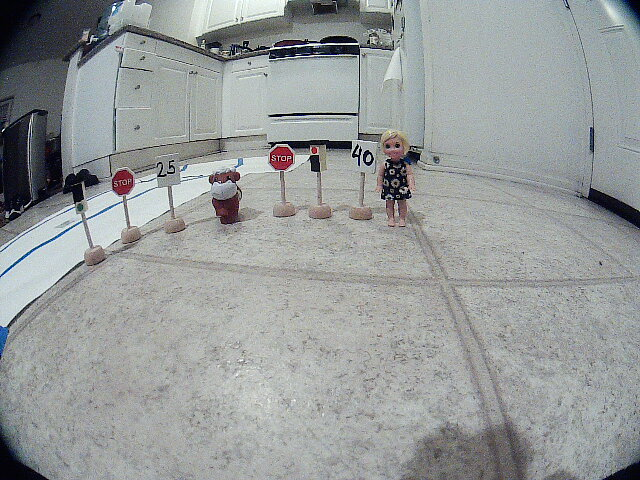Cow: (203, 167, 255, 230)
Green Traffic Light: (64, 178, 97, 221)
Person: (380, 133, 418, 227)
Red Traffic Light: (302, 137, 343, 181)
Speed Limit 25: (150, 157, 192, 187)
Speed Limit 40: (347, 138, 380, 174)
Stop Sign: (261, 137, 306, 177), (106, 170, 143, 200)
